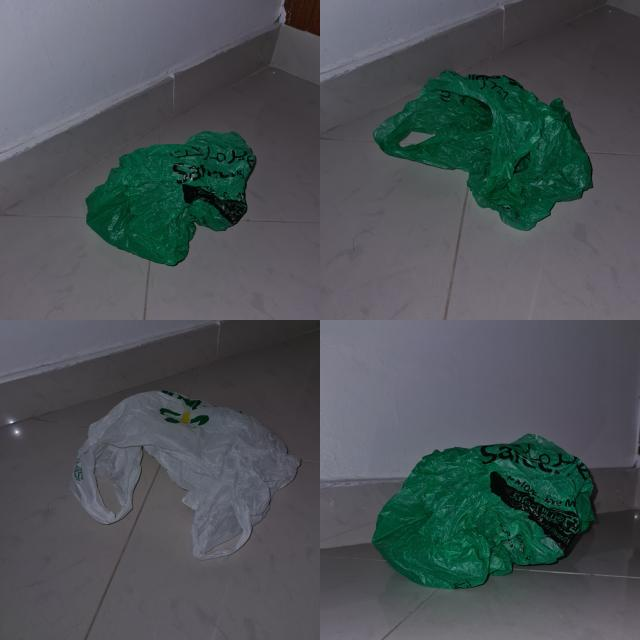Single-layer Plastic: (70, 391, 300, 560), (374, 71, 592, 230), (372, 434, 595, 589), (86, 131, 256, 266)
